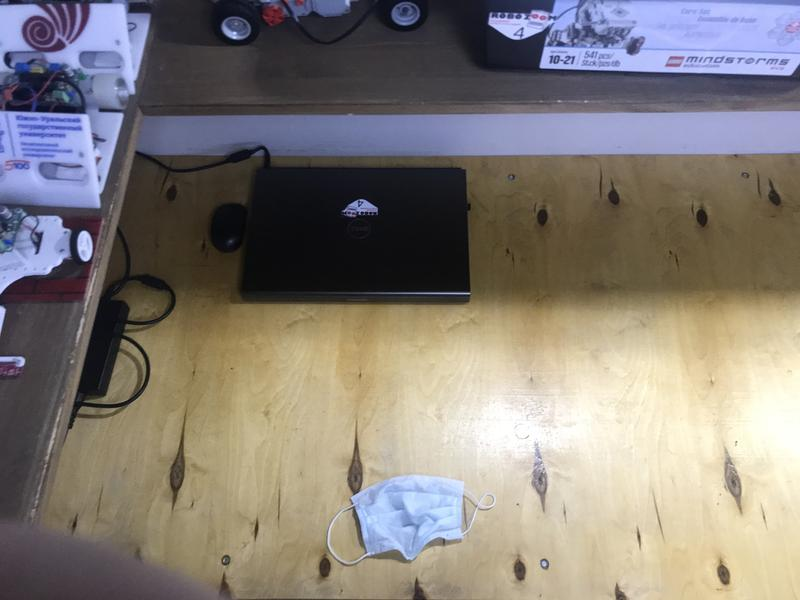medical_mask: (326, 475, 495, 566)
